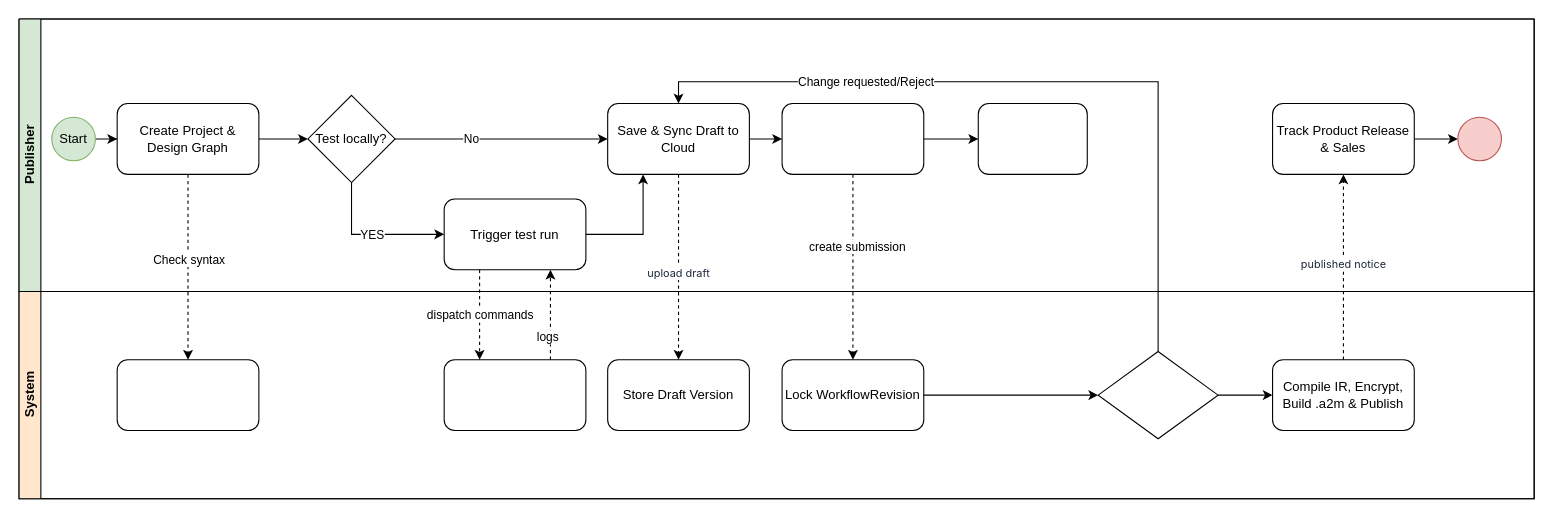
Some shapes in this 1553 by 518 pixel diagram are drawn without their labels. The box of each missing label's shape, as (x1, y1, x2, y2) in pixels:
Admin Review Decision?: (1097, 350, 1218, 439)
Click Submit for Review: (977, 102, 1087, 174)
End: (1457, 116, 1501, 161)
Execute on LDPlayer, Stream Output: (443, 359, 586, 431)
Seft-review & Enter product listing info: (781, 102, 924, 174)
Validate Schema & Detect Cycles: (116, 359, 259, 431)
